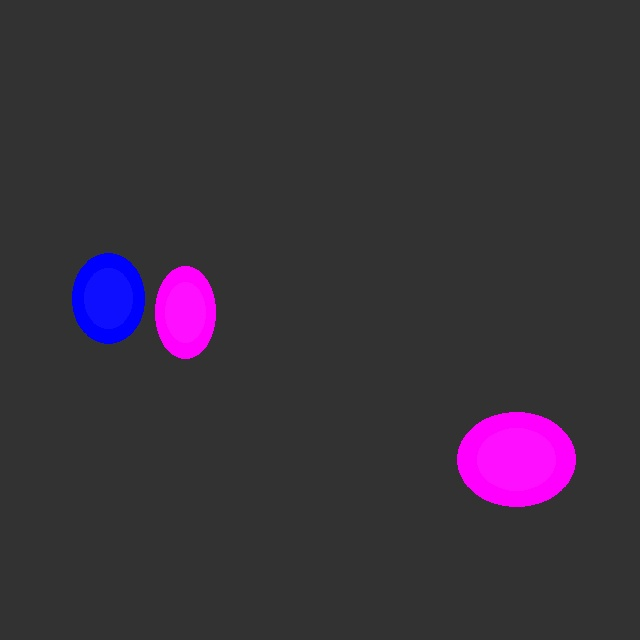fish: (457, 412, 575, 506), (72, 253, 144, 343), (155, 266, 215, 358)
